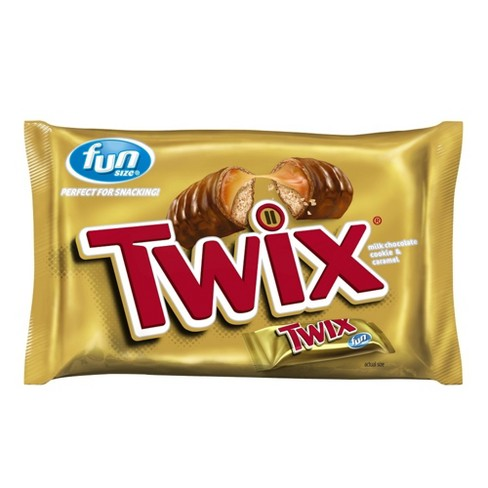twix: (15, 112, 470, 389)
